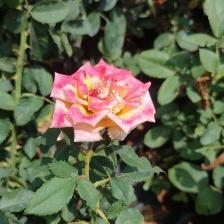rose: (50, 58, 160, 145)
